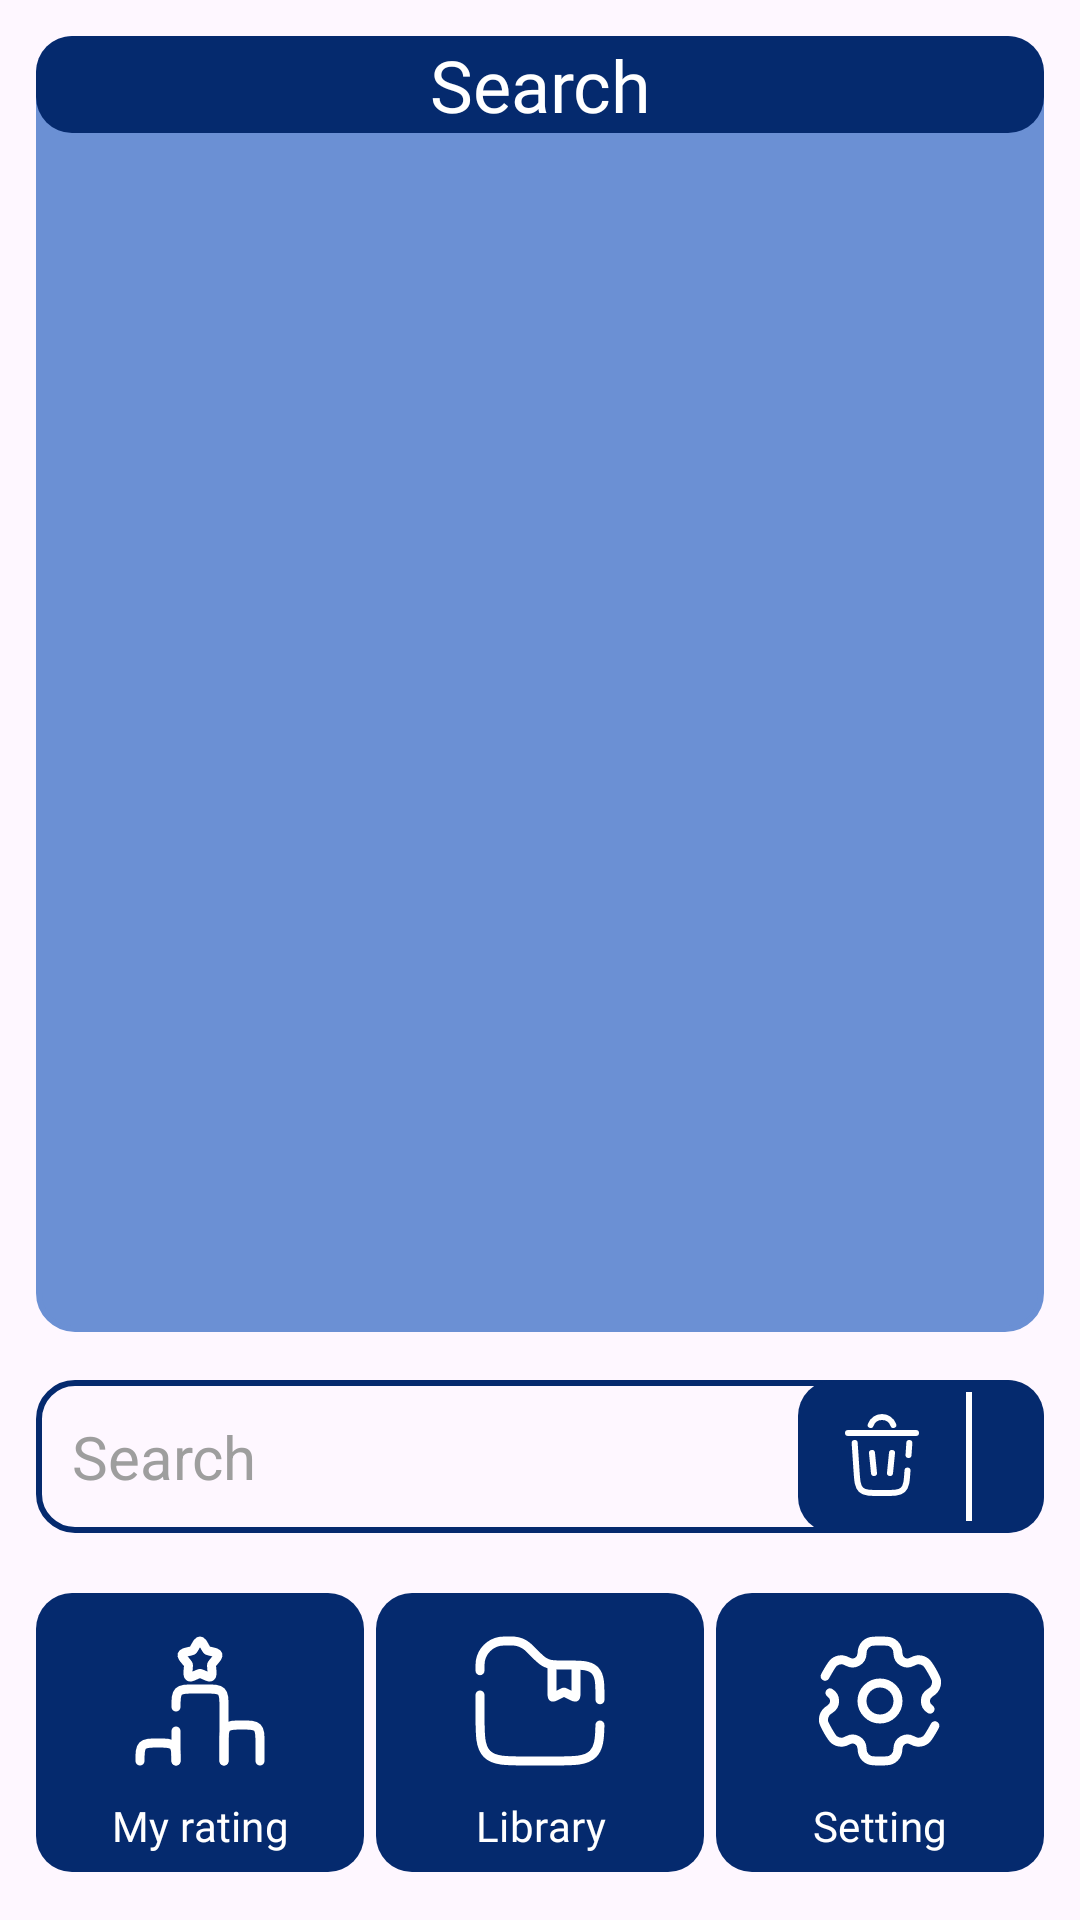

Icons on this 1080 × 1920 Android screen, each with the point to tap as (x=x, y=y):
delete: (x=882, y=1456)
